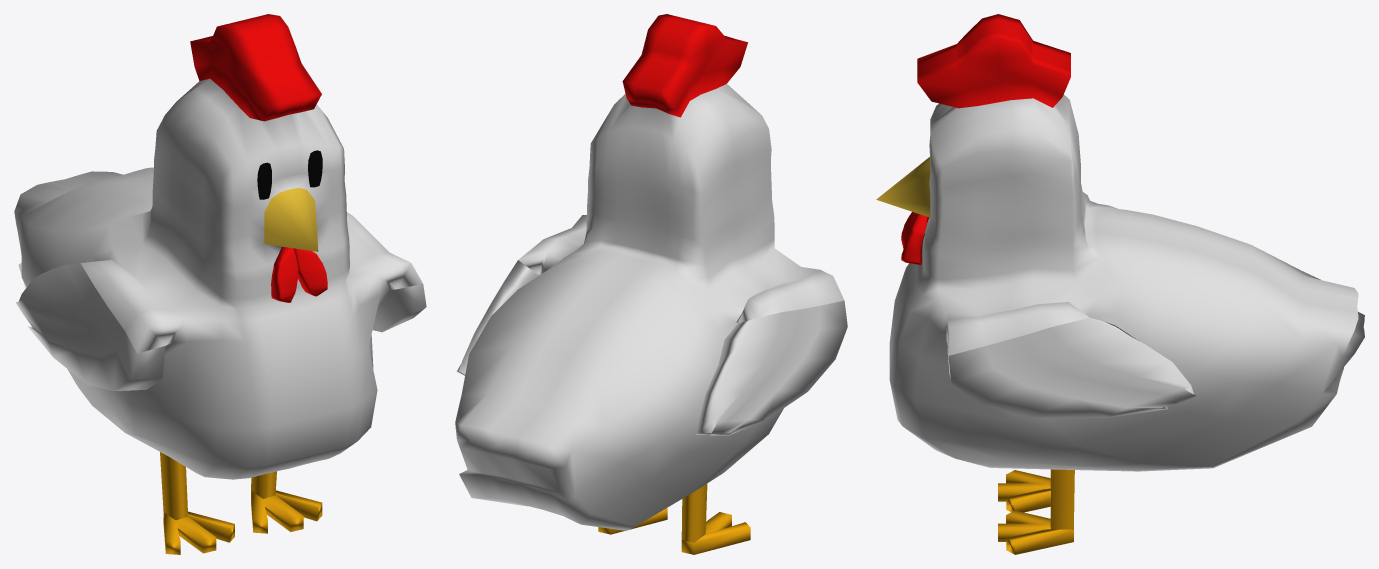
The model's file is Chicken.fbx.
The picture shows the model from 3 angles, left to right: view 1: azimuth 30°, elevation 25°; view 2: azimuth 150°, elevation 25°; view 3: azimuth 270°, elevation 25°; orthographic projection. The views are drawn at different scales.
Parts seen in each view (by area): view 1: pPlane11; view 2: pPlane11; view 3: pPlane11.
Part boxes in pixels (x1,y1,x2,y2): pPlane11: (14, 14, 426, 554); pPlane11: (455, 14, 847, 554); pPlane11: (876, 14, 1364, 554).
Bounding box in the file's own units: 2.33 × 3.84 × 3.45.
